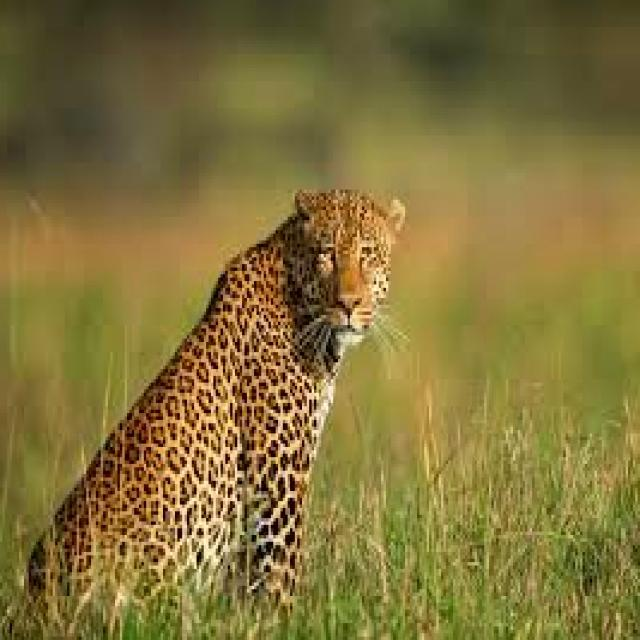leopard: (29, 190, 405, 626)
